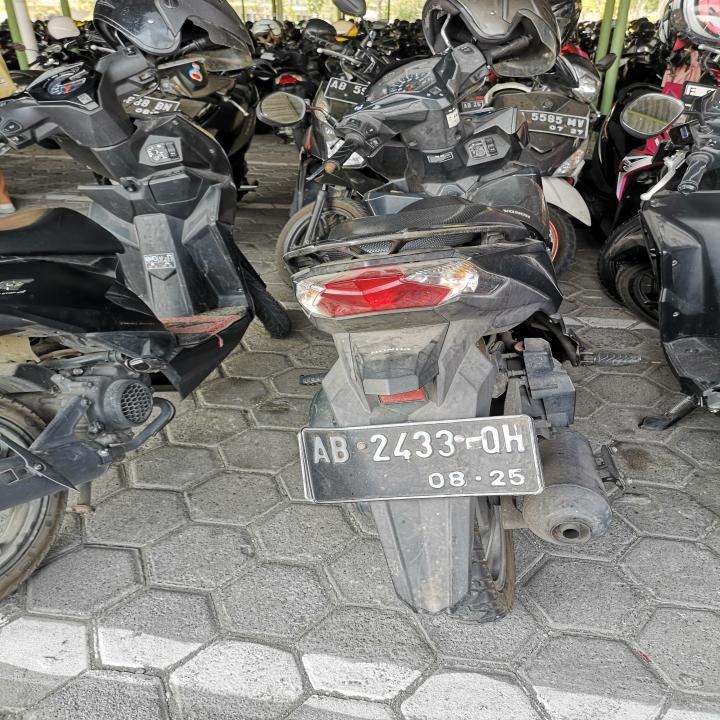plate: (296, 408, 546, 505), (519, 110, 590, 140)
